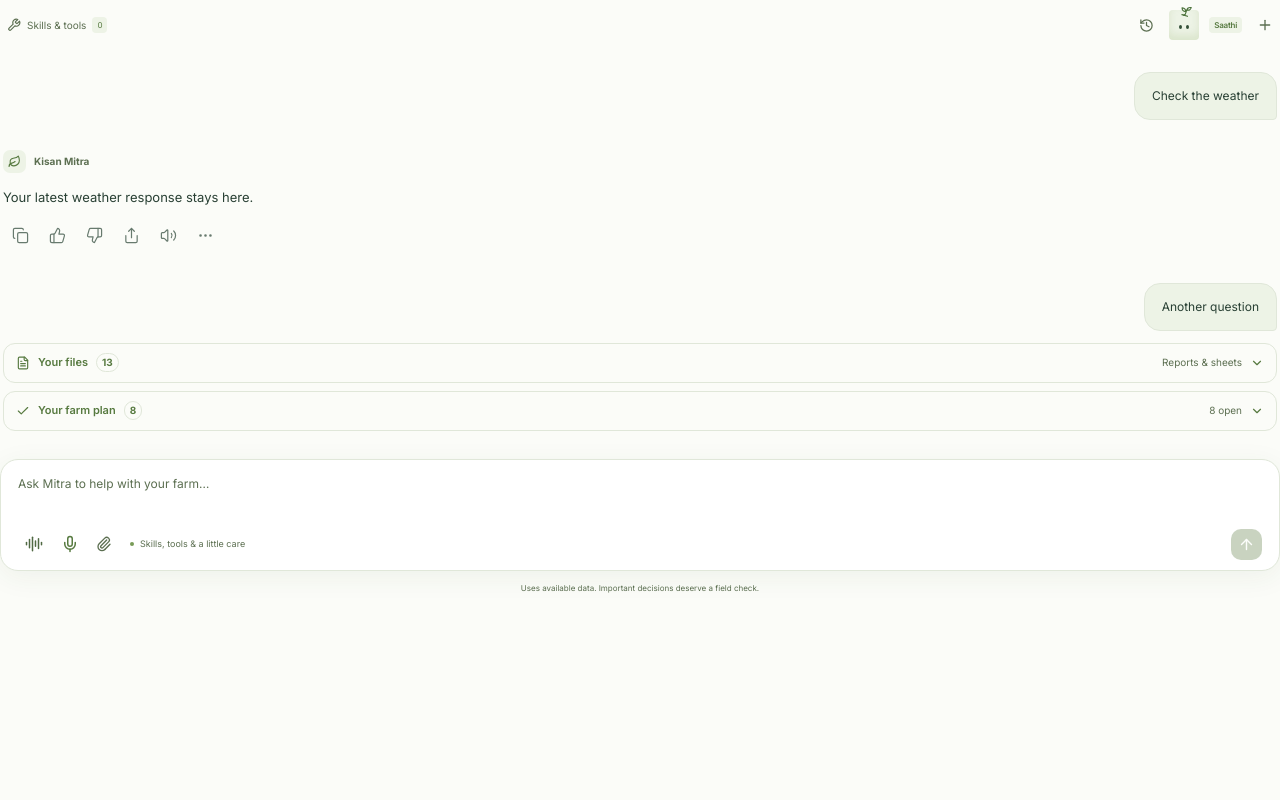
Test case: opens history beside the conversation without hiding the composer or its draft
The width and height of the screenshot is (1280, 800).
Type "Keep my draft" into the text box named "Message Kisan Mitra" at (640, 498), box [18,474,1262,523]
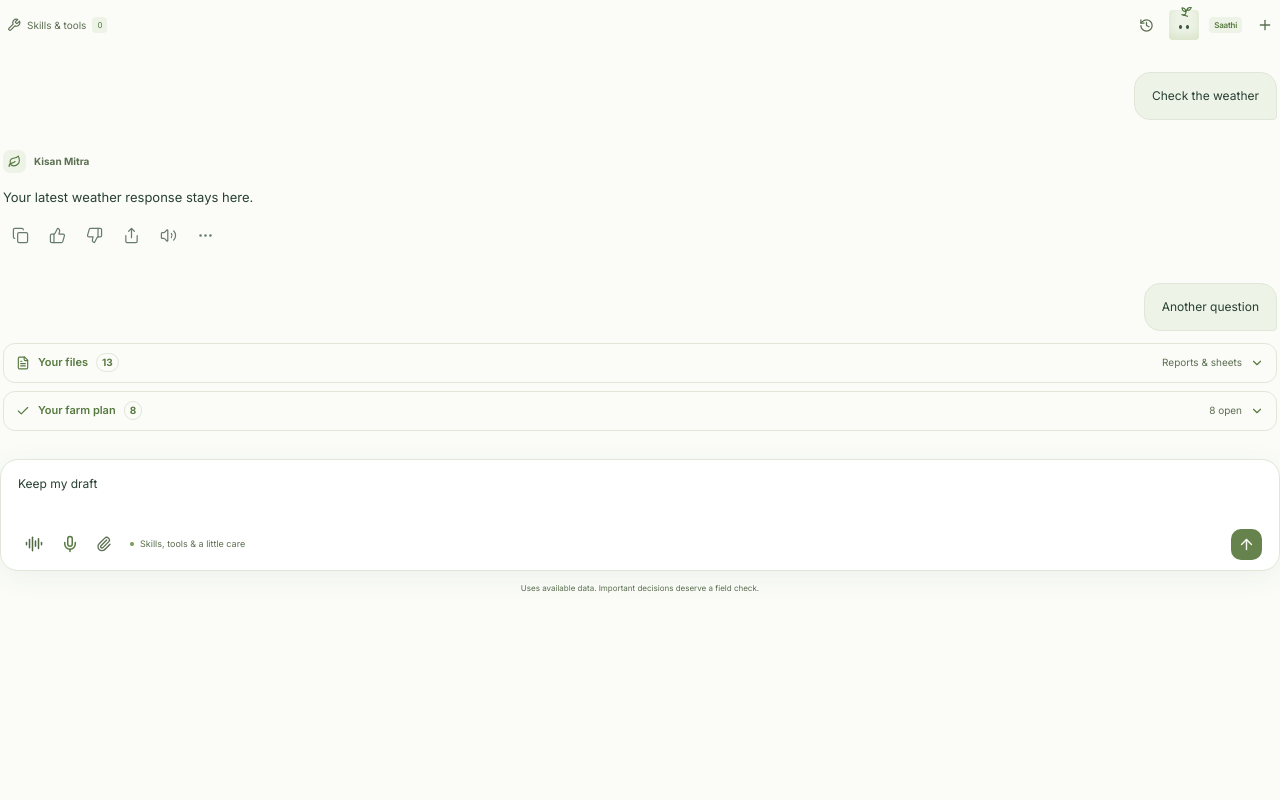
Click the button named "Previous conversations" at (1147, 25), box [1132,10,1161,40]
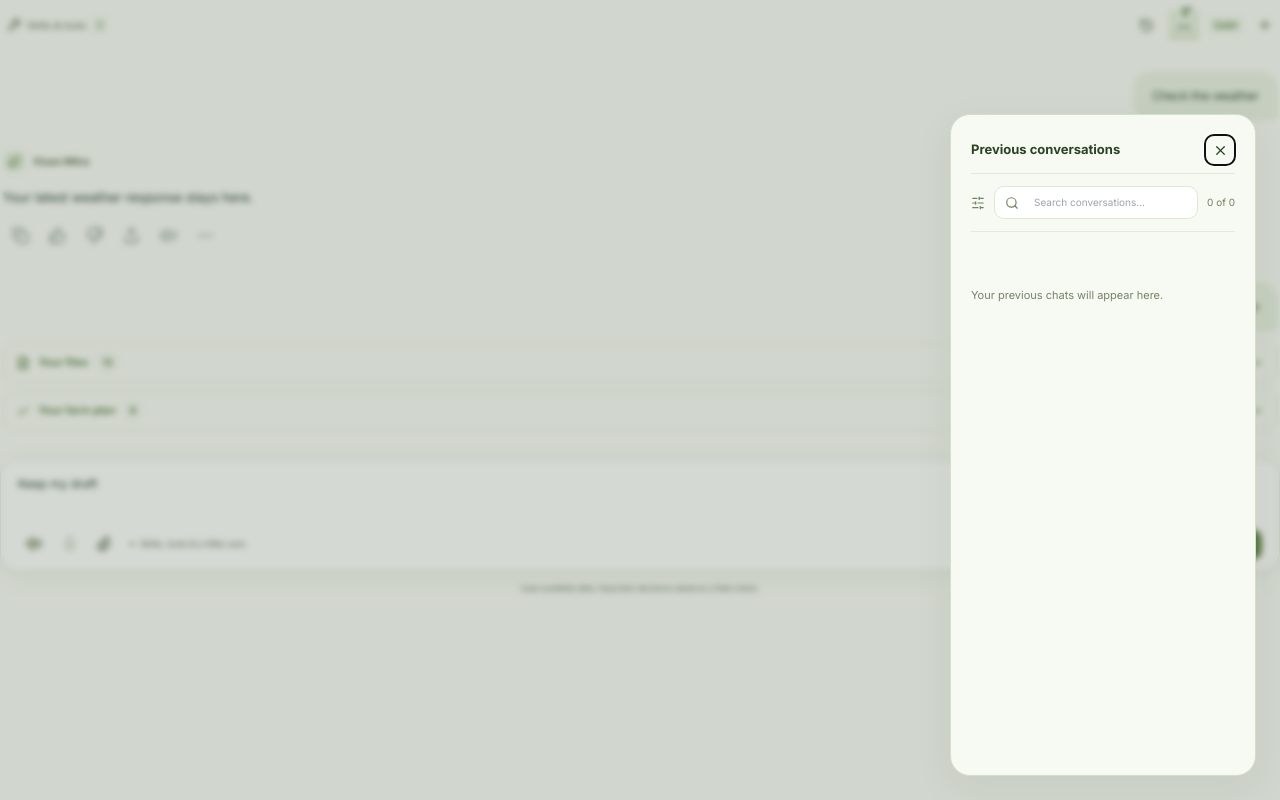
Click the button named "Close history" at (1220, 150), box [1205,135,1235,165]
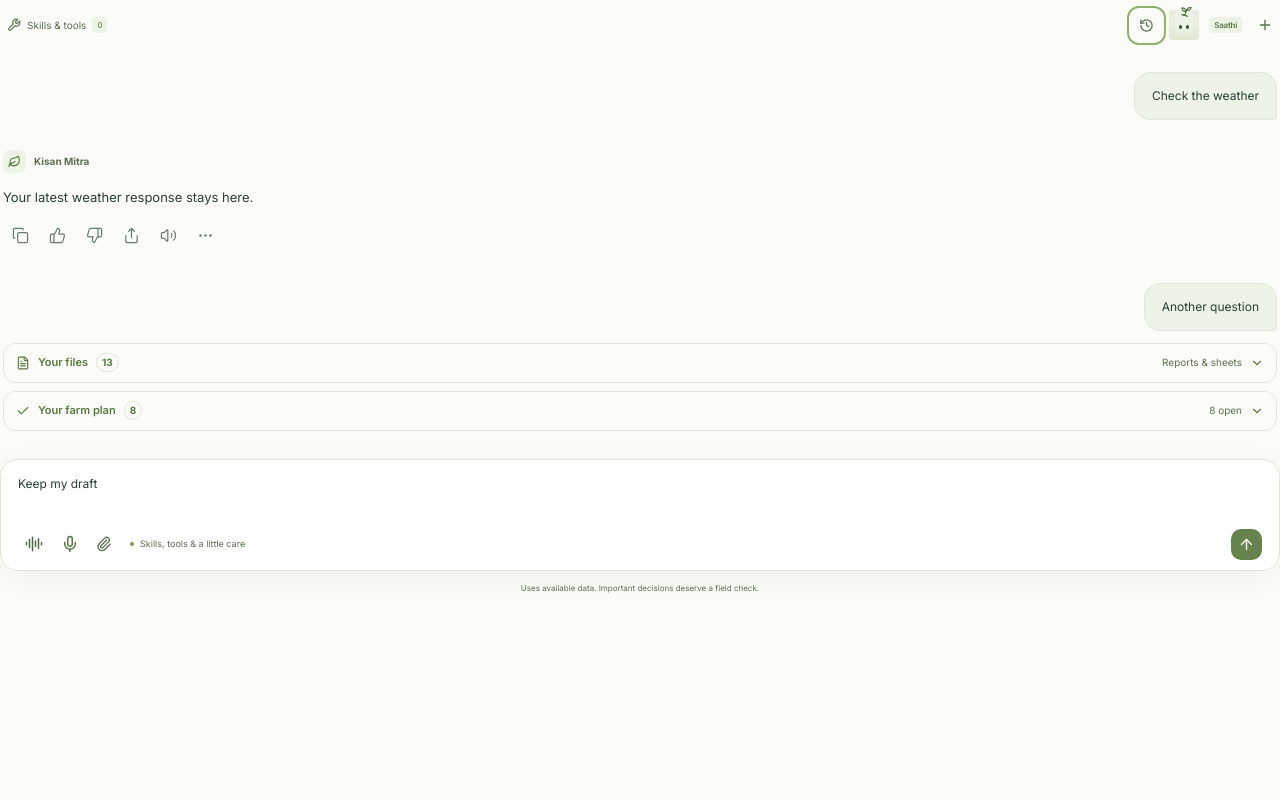
Result: the dialog is gone
